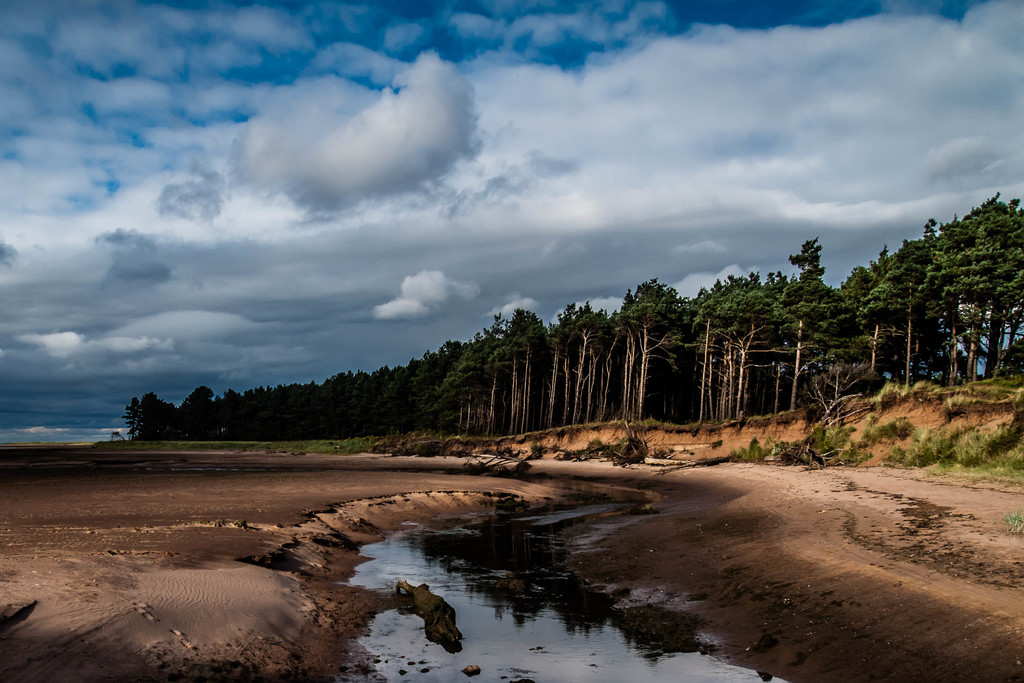Tree: (115, 189, 1023, 444)
